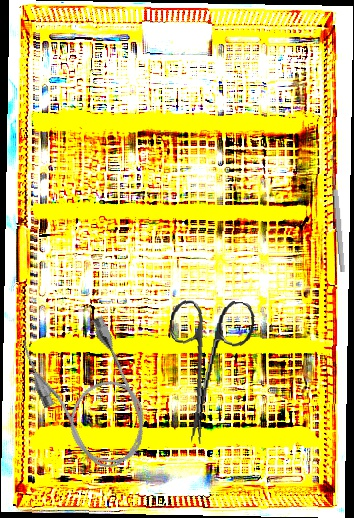Cannula: (14, 305, 163, 484)
Iris Scissors: (155, 293, 257, 450)
Surgical Spoon: (328, 154, 347, 273)
